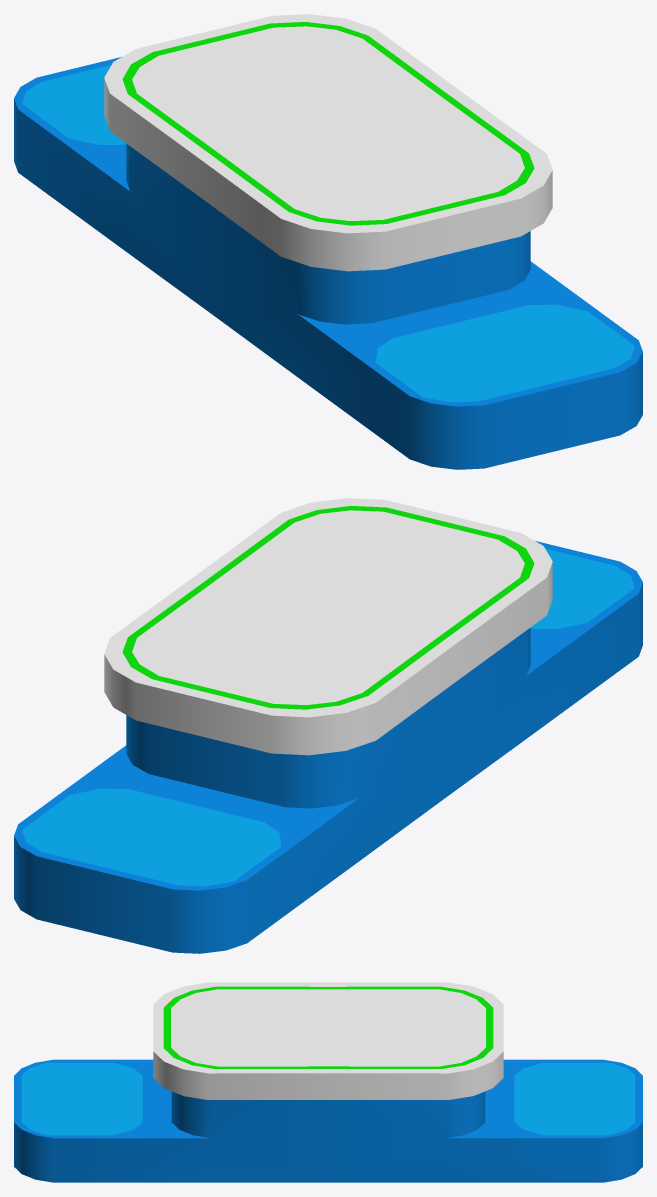
The model's file is NF_Floor_Counter_B.fbx.
The picture shows the model from 3 angles, top to bottom: view 1: azimuth 30°, elevation 25°; view 2: azimuth 150°, elevation 25°; view 3: azimuth 270°, elevation 25°; orthographic projection. The views are drawn at different scales.
Visible parts, largest first — view 1: NF_Floor_Counter_B; view 2: NF_Floor_Counter_B; view 3: NF_Floor_Counter_B.
Boxes of the visible parts, bbox=[...] form: NF_Floor_Counter_B: bbox=[14, 14, 642, 469]; NF_Floor_Counter_B: bbox=[14, 498, 642, 953]; NF_Floor_Counter_B: bbox=[14, 982, 642, 1182].
Size of the model in its own units: 1.1 by 0.65 by 3.21.
Materials: 1 (1 with a texture image).
